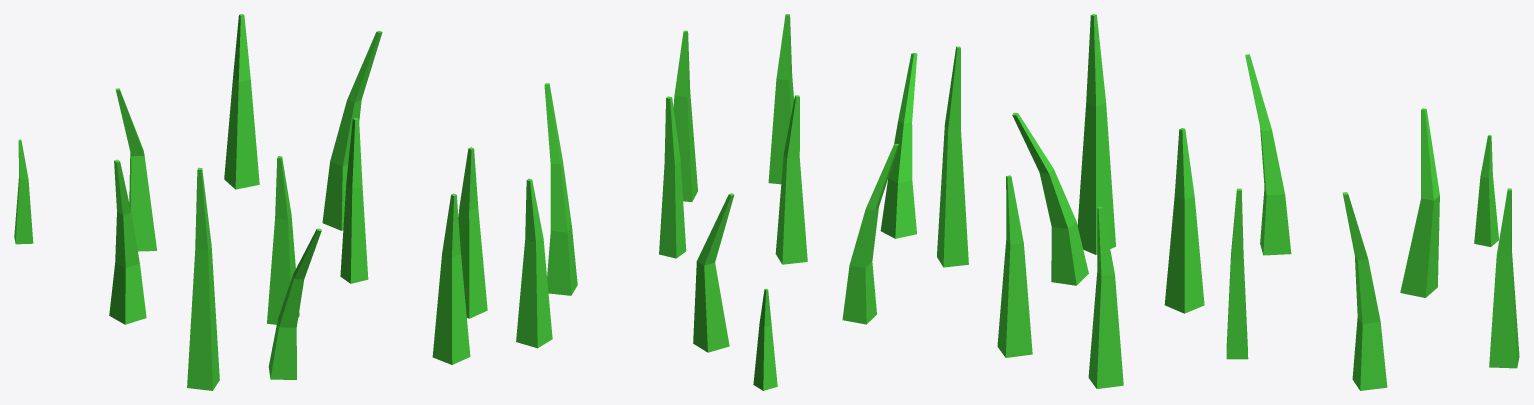
File: grasstest2.fbx
3 views of the same model, side by side, from view 1: azimuth 30°, elevation 25°; view 2: azimuth 150°, elevation 25°; view 3: azimuth 270°, elevation 25° (orthographic). The views are drawn at different scales.
Visible parts, largest first — view 1: Cube.013; view 2: Cube.013; view 3: Cube.013.
Part boxes in pixels (x1=…): Cube.013: x1=14, y1=14, x2=487, y2=390; Cube.013: x1=516, y1=14, x2=968, y2=390; Cube.013: x1=997, y1=14, x2=1519, y2=390.
Size of the model in its own units: 2705 by 1794 by 3699.
